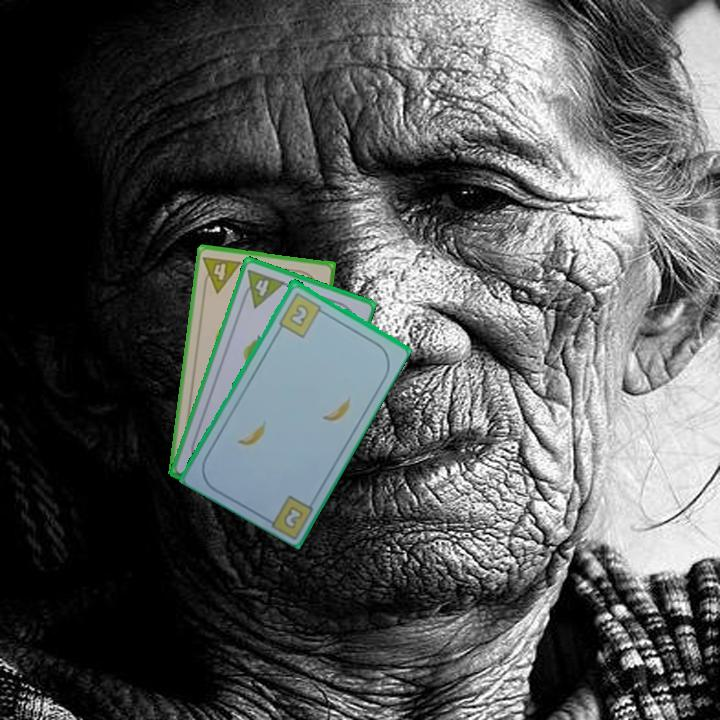2b: (275, 288, 328, 340), (280, 502, 306, 531)
4p: (237, 266, 288, 310), (199, 252, 244, 296)
